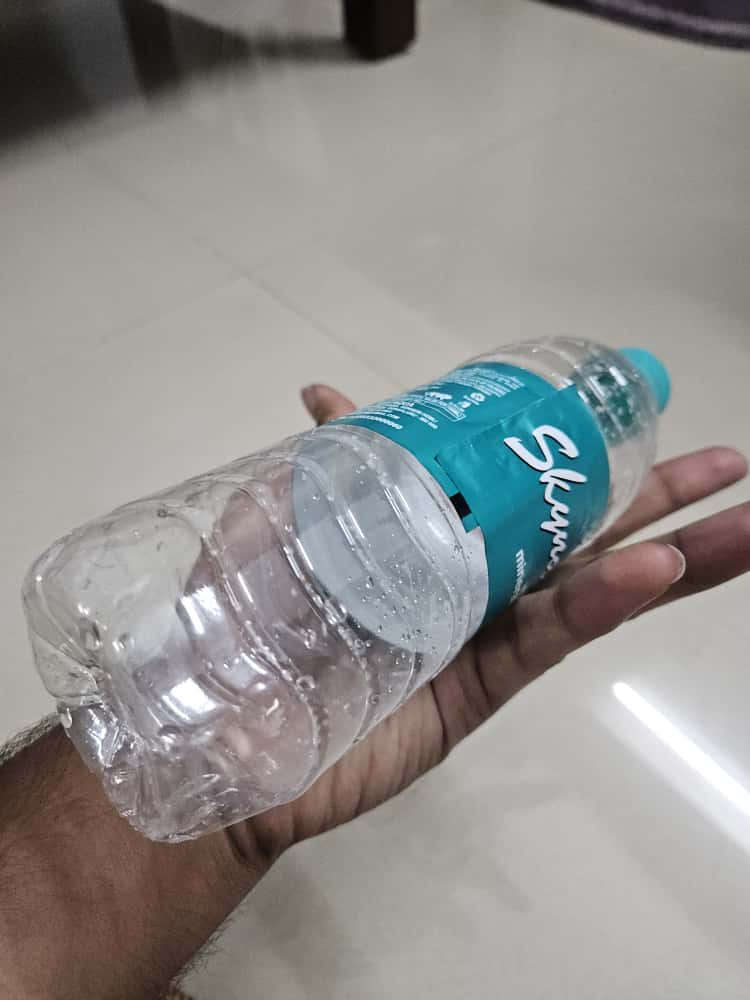dry: (22, 284, 750, 847)
